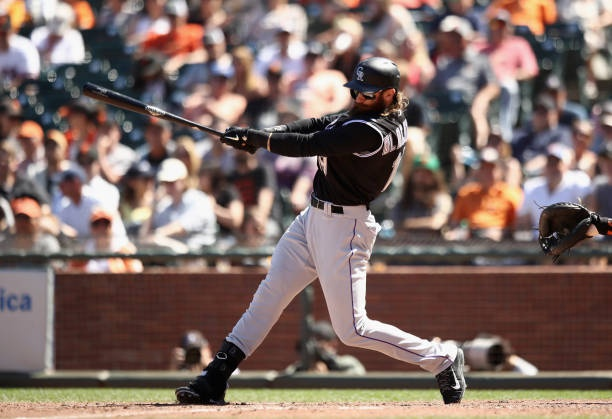bita: (88, 82, 260, 151)
